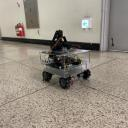cart: (40, 49, 92, 89)
